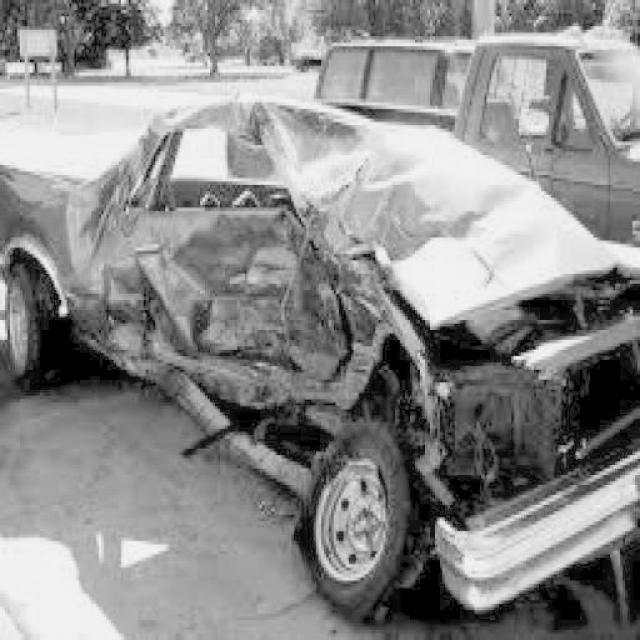car damage: (1, 101, 640, 533)
